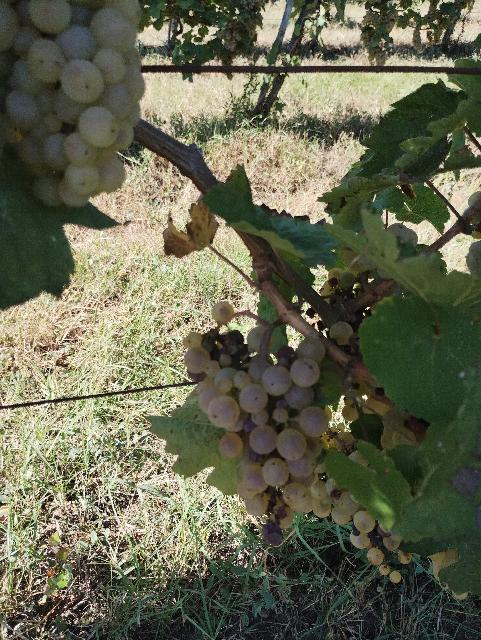grapes: (184, 331, 340, 545), (0, 0, 145, 208)
